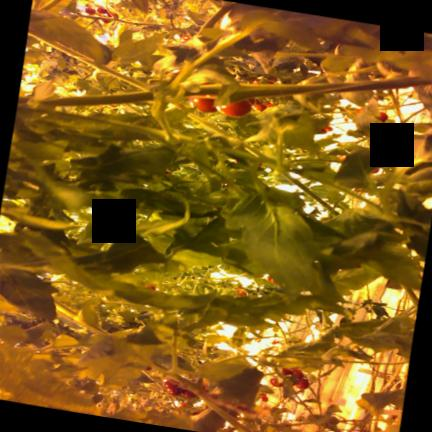MainStem: (29, 32, 148, 88), (230, 75, 432, 100)
tomato: (216, 100, 251, 117), (189, 97, 217, 112), (294, 377, 309, 388), (269, 377, 283, 386), (291, 368, 303, 377), (305, 373, 316, 381), (281, 367, 291, 374), (260, 395, 268, 401)
